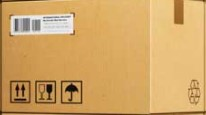stock: (1, 1, 205, 112)
